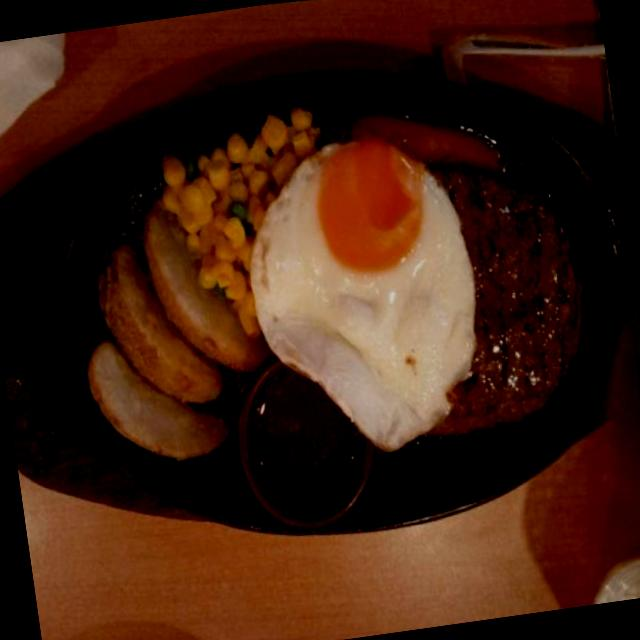Egg: (236, 134, 494, 473)
